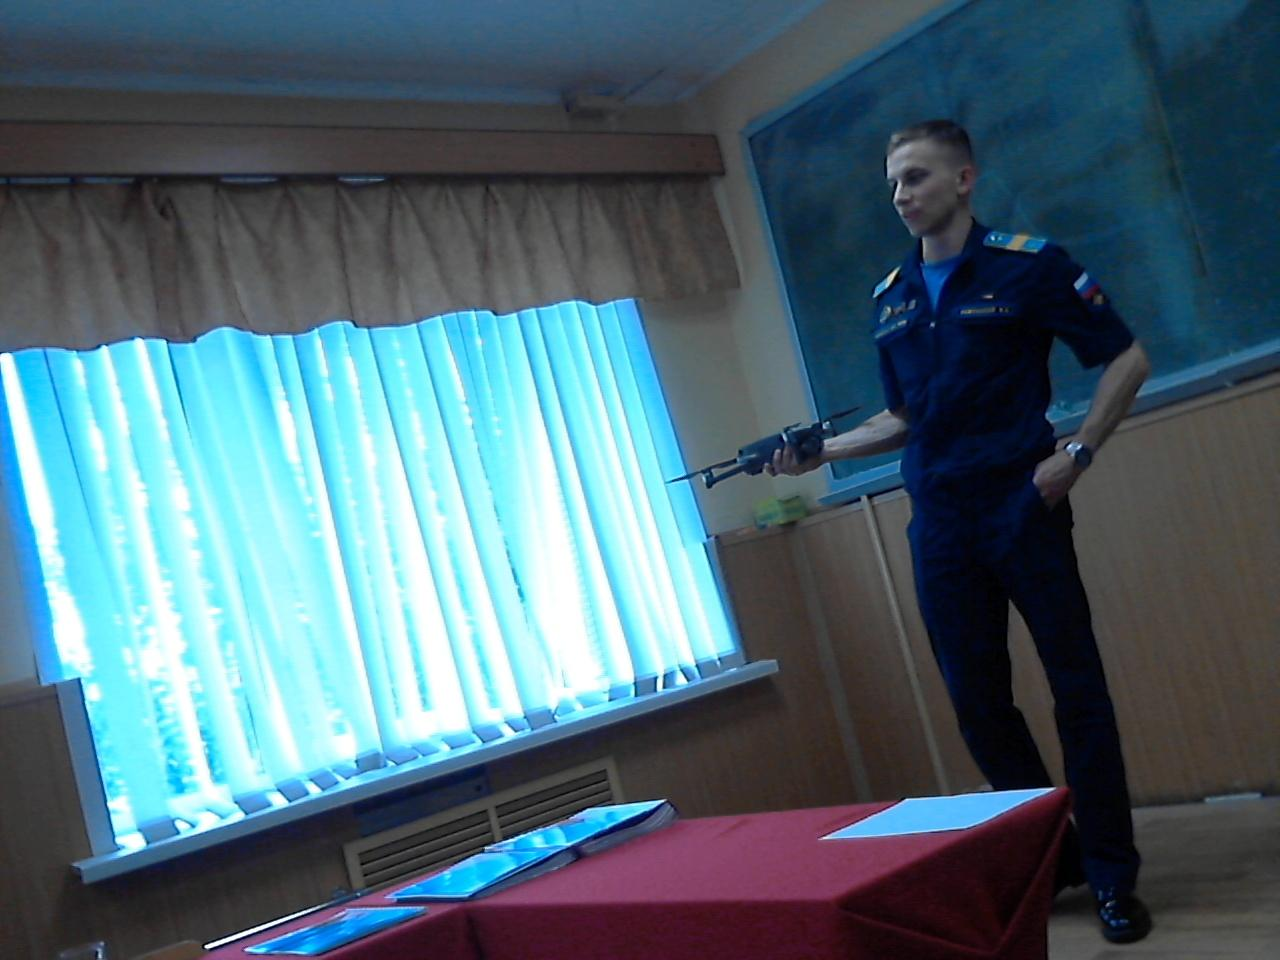drone: (654, 406, 914, 495)
